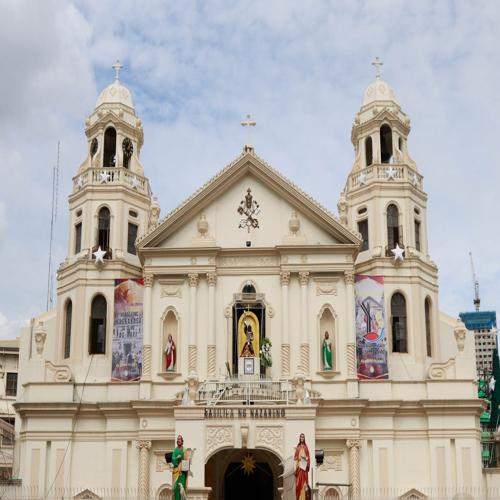Quiapo Church: (14, 46, 488, 495)
